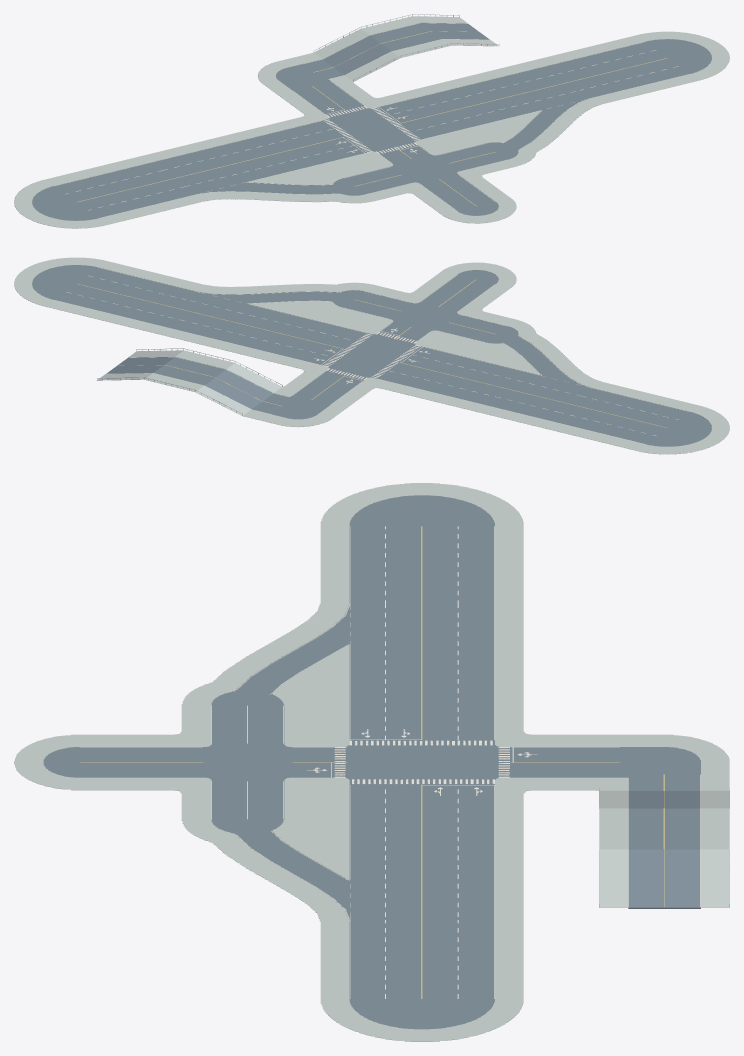
Rendered from network-w98-s78.glb.
3 renders of one model, top to bottom at view 1: azimuth 30°, elevation 25°; view 2: azimuth 150°, elevation 25°; view 3: azimuth 270°, elevation 25°, orthographic. The views are drawn at different scales.
Parts seen in each view (by area): view 1: Road_surface, Sidewalks, Lane_markings, Ramp_surface, Crosswalks, Bridge_railings; view 2: Road_surface, Sidewalks, Lane_markings, Ramp_surface, Crosswalks, Bridge_railings; view 3: Road_surface, Sidewalks, Ramp_surface, Lane_markings, Crosswalks.
Part boxes in pixels (x1,y1,x2,y2): Road_surface: (32, 23, 711, 220); Sidewalks: (14, 16, 729, 228); Lane_markings: (54, 23, 689, 217); Ramp_surface: (323, 23, 489, 75); Crosswalks: (324, 106, 420, 154); Bridge_railings: (313, 14, 499, 81); Road_surface: (32, 265, 711, 446); Sidewalks: (14, 257, 729, 454); Lane_markings: (59, 267, 688, 444); Ramp_surface: (106, 357, 272, 409); Crosswalks: (323, 331, 420, 379); Bridge_railings: (97, 348, 282, 415); Road_surface: (43, 495, 700, 1029); Sidewalks: (14, 483, 729, 1041); Ramp_surface: (628, 791, 700, 908); Lane_markings: (80, 526, 700, 998); Crosswalks: (334, 740, 509, 784).
Bounding box in the file's own units: 354 × 7.51 × 192.
